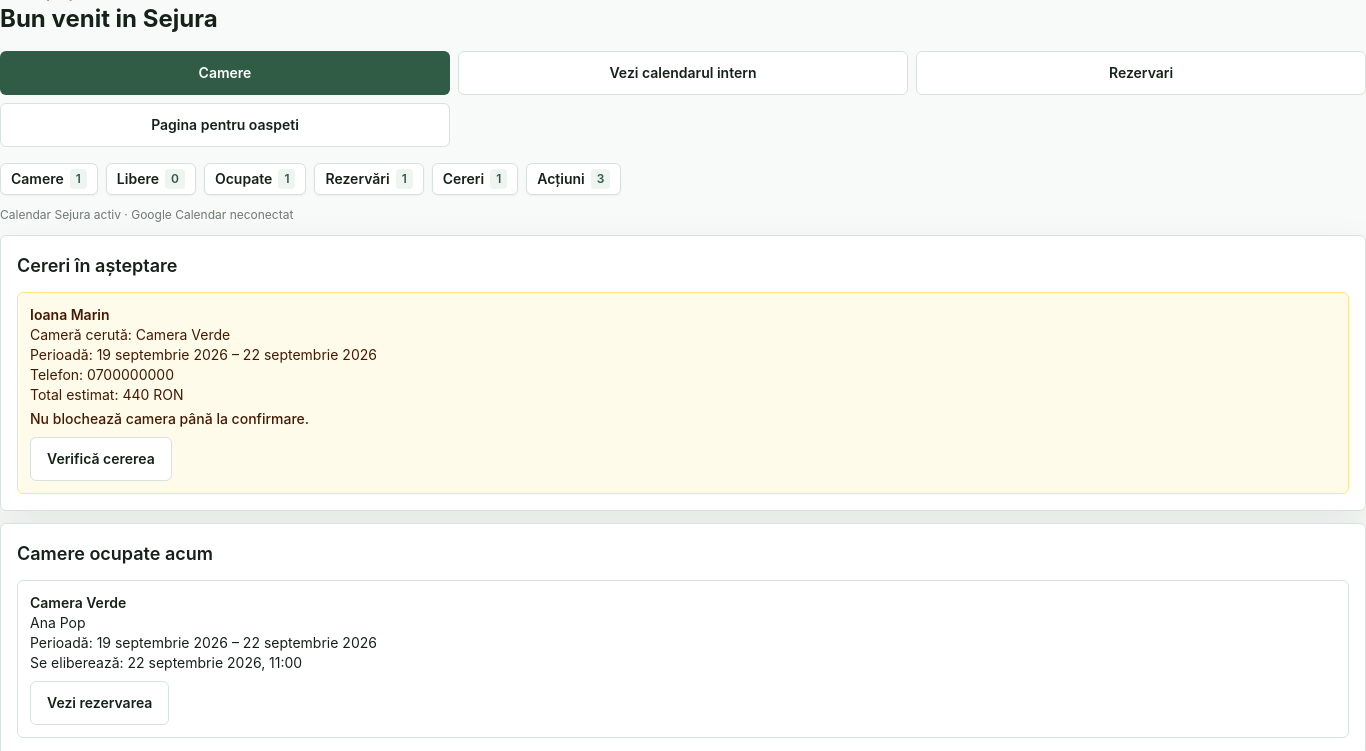
Test case: DashboardPage › expands booking and action cards with scoped links
Expected: the text "Ana Pop" is shown, 30,614 -> 86,631
Expected: the text "Ioana Marin" is shown, 30,306 -> 110,323
Click the button "Acțiuni 3": (574, 179) 526,163 -> 621,195
(page scrolled)
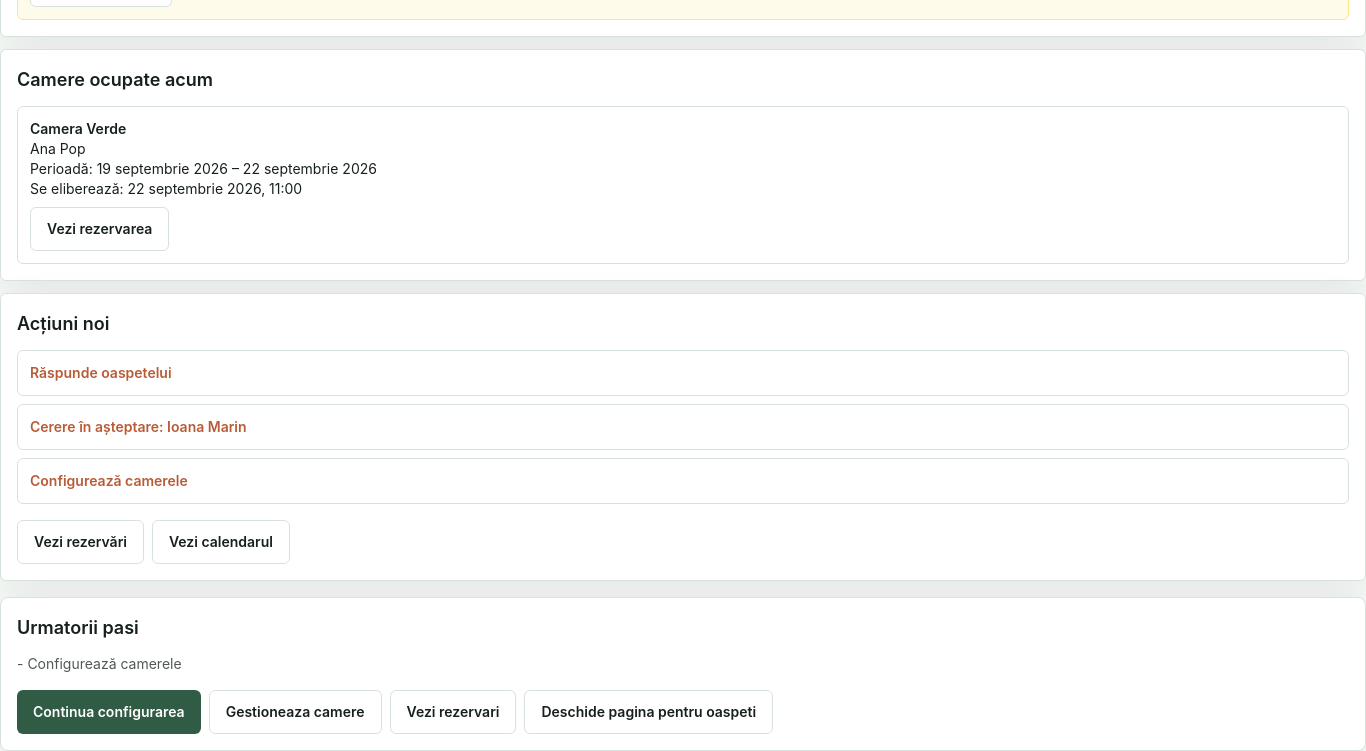
Expected: the element with id "actions-panel" is shown, 0,293 -> 1365,581
Expected: the link "Răspunde oaspetelui" is shown, 30,364 -> 172,381
